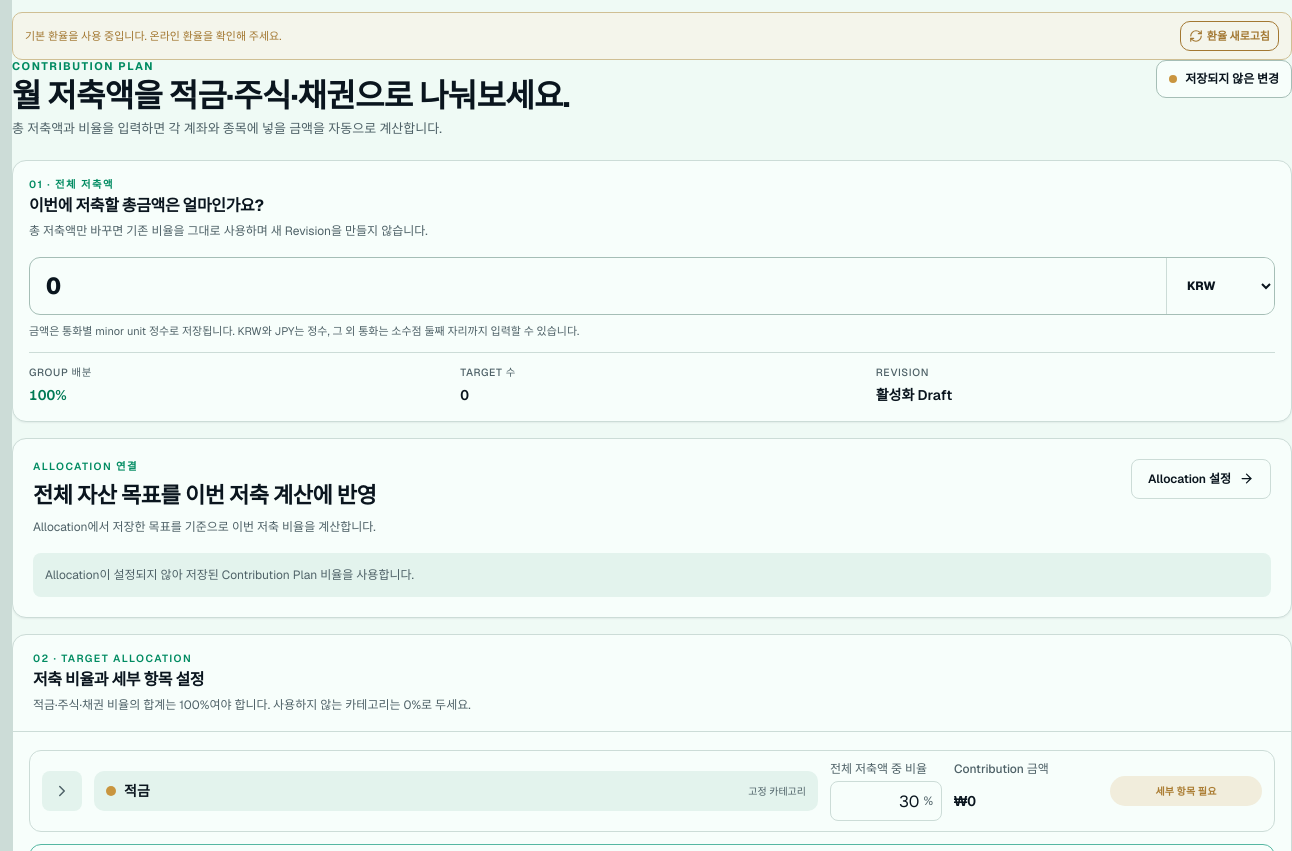
Test: Contribution Plan page › adds multiple savings accounts with independent within-category ratios
Click the button named "적금 카테고리 펼치기". click: (62, 791)
box: [42,771,82,811]
(page scrolled)
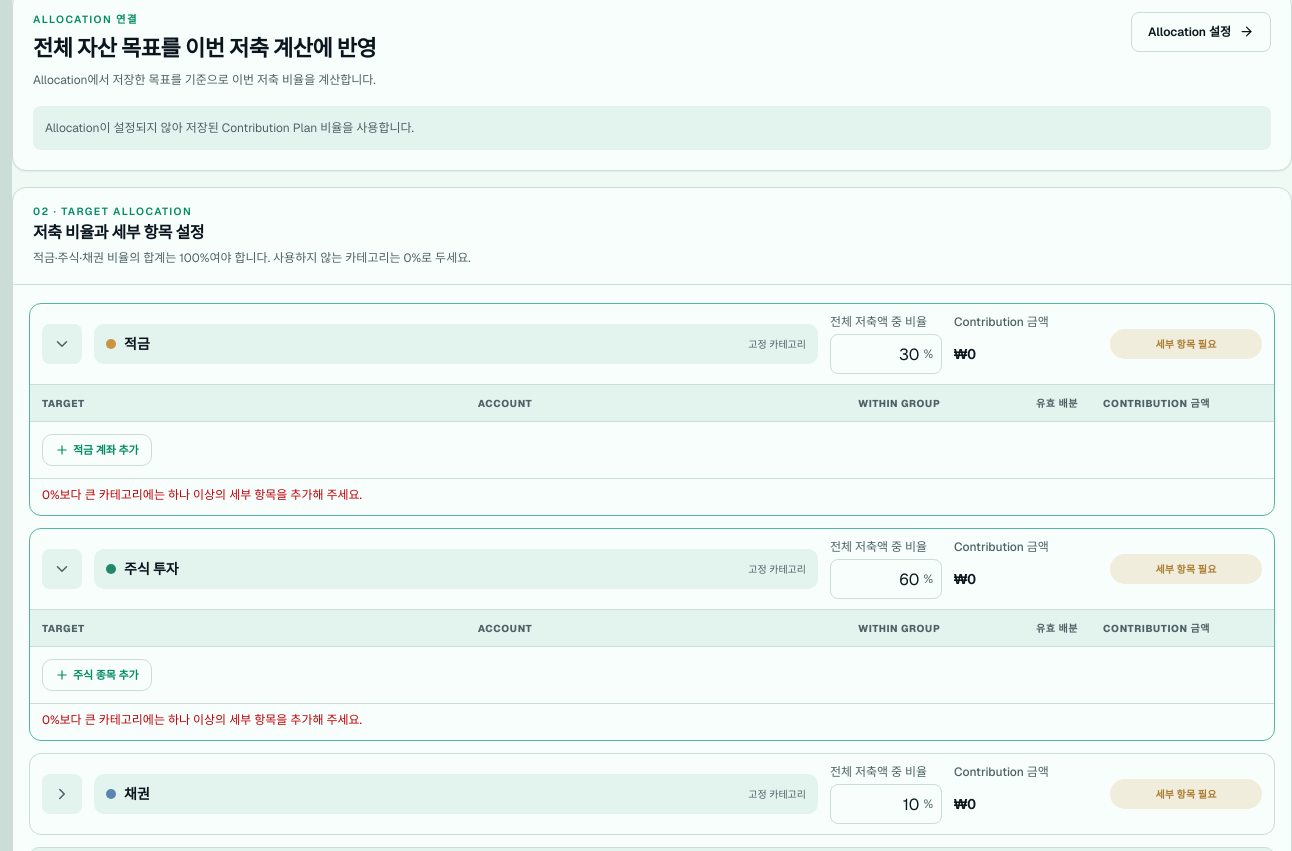
Click the button "적금 계좌 추가". click: (97, 450)
box: [42,434,152,466]
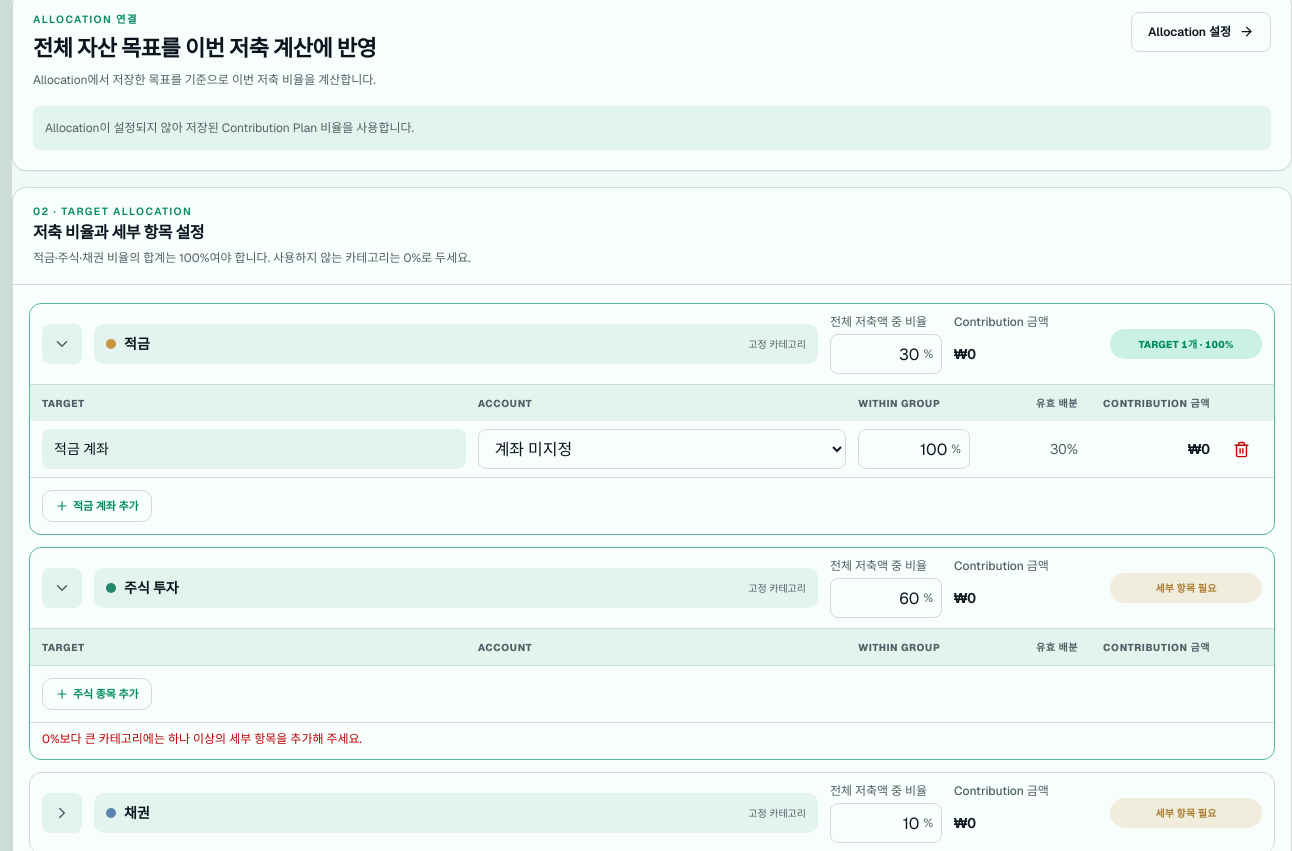
Click the button "적금 계좌 추가". click: (97, 506)
box: [42,490,152,522]
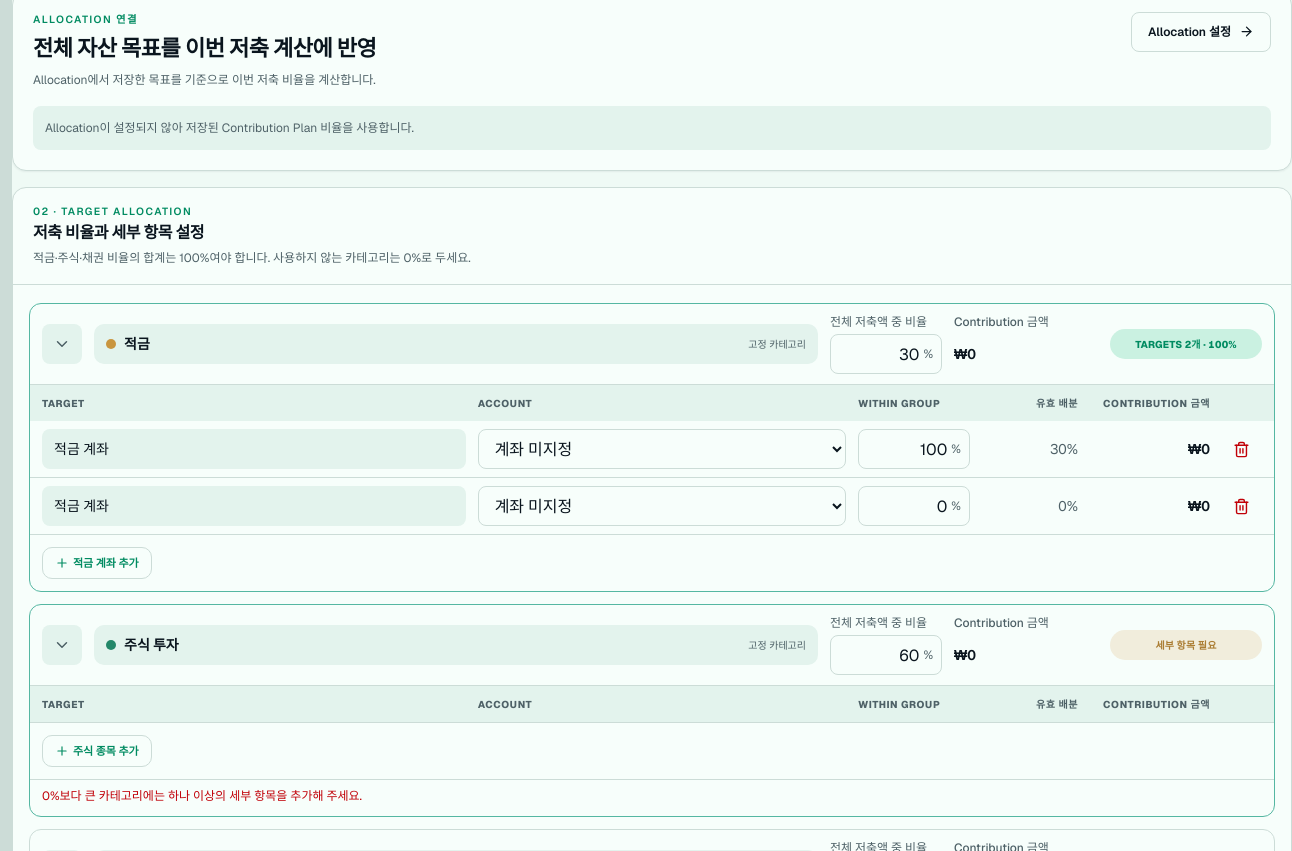
Expected: the number of fields named "Within Group (%)" is 2, [859,430,951,468]; [859,487,951,525]
Expected: the number of dropdowns named "은행 / 계좌" is 2, [478,429,846,469]; [478,486,846,526]
